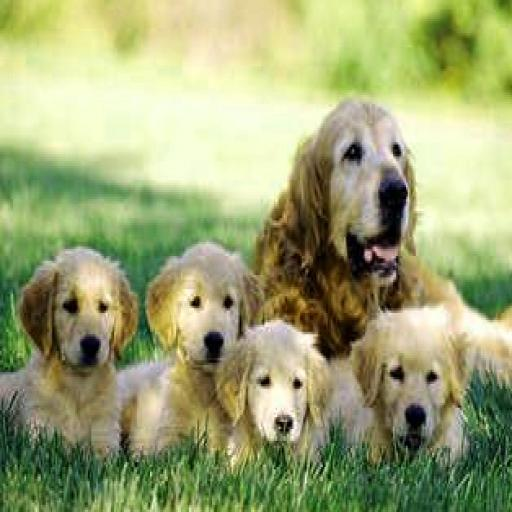dog_face: (296, 95, 423, 282), (354, 318, 476, 458), (220, 322, 330, 455), (16, 252, 126, 374), (149, 242, 244, 377)
